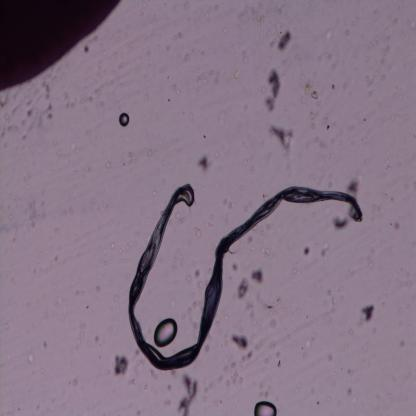Air bubble: (151, 312, 180, 350), (252, 398, 277, 416), (117, 110, 131, 128)
Background material: (218, 349, 255, 386), (173, 368, 201, 416), (266, 120, 296, 152), (267, 68, 281, 110), (129, 349, 144, 385), (299, 81, 319, 106), (228, 331, 253, 351), (233, 273, 251, 300), (275, 24, 293, 50), (110, 352, 131, 374), (43, 83, 54, 121), (330, 213, 350, 232), (361, 301, 376, 325), (345, 176, 361, 197), (256, 10, 266, 42), (198, 153, 212, 175), (252, 267, 265, 285), (192, 269, 202, 287), (324, 25, 334, 43), (306, 110, 317, 124), (193, 226, 203, 240), (393, 221, 403, 233), (302, 244, 312, 256), (320, 244, 329, 256), (84, 43, 92, 56), (232, 70, 242, 80), (223, 196, 232, 207), (277, 359, 282, 369)
Cotton: (127, 179, 369, 372)
Pen: (0, 0, 122, 92)
